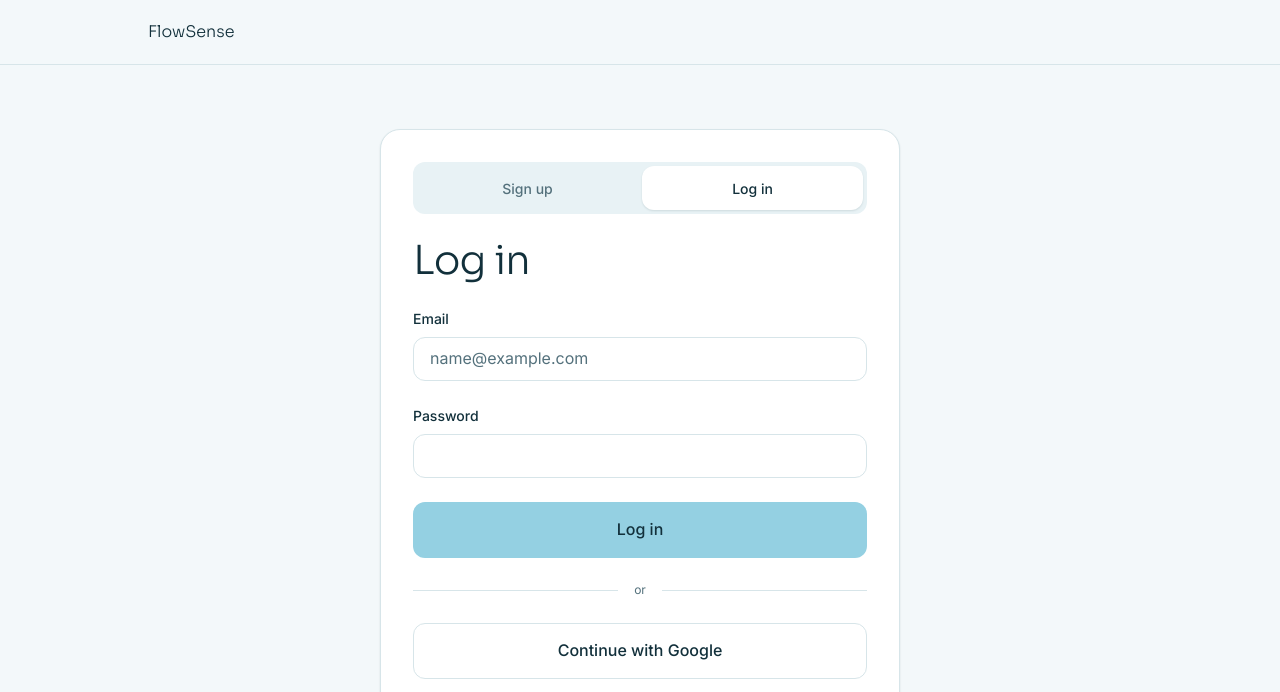
Test case: login entry intent › keeps the submitted email visible after a wrong-password response
The width and height of the screenshot is (1280, 692).
Type " speaker@example.test " into the field labelled "Email".
click(640, 359); type(" speaker@example.test ")  # box [413,337,867,381]
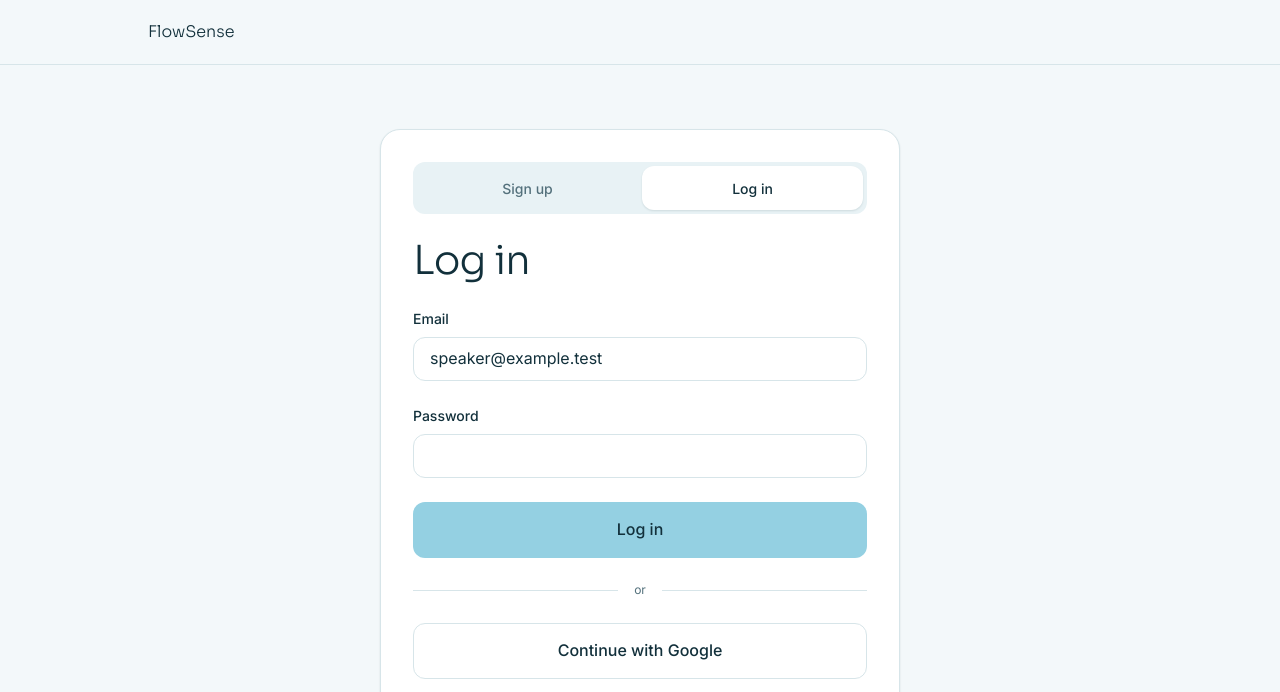
Type "wrong-password" into the password field labelled "Password".
click(640, 456); type("wrong-password")  # box [413,434,867,478]
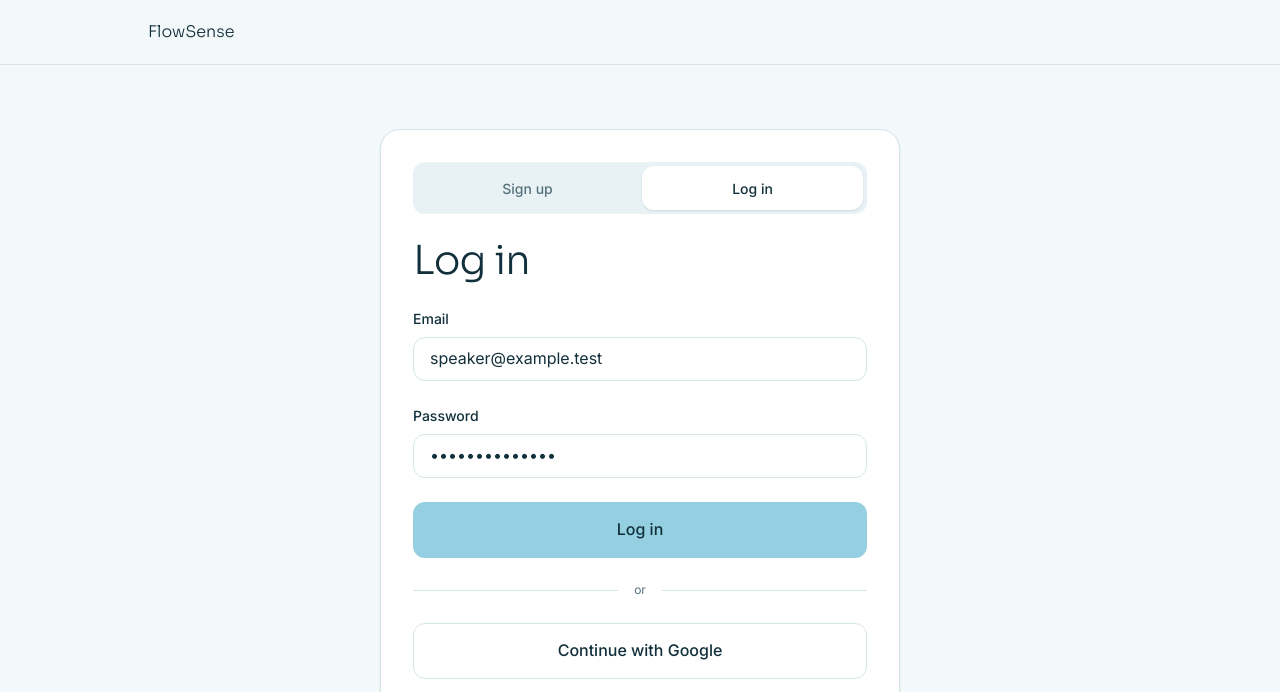
Click the button "Log in" below "Password".
click(640, 530)  # box [413,502,867,558]
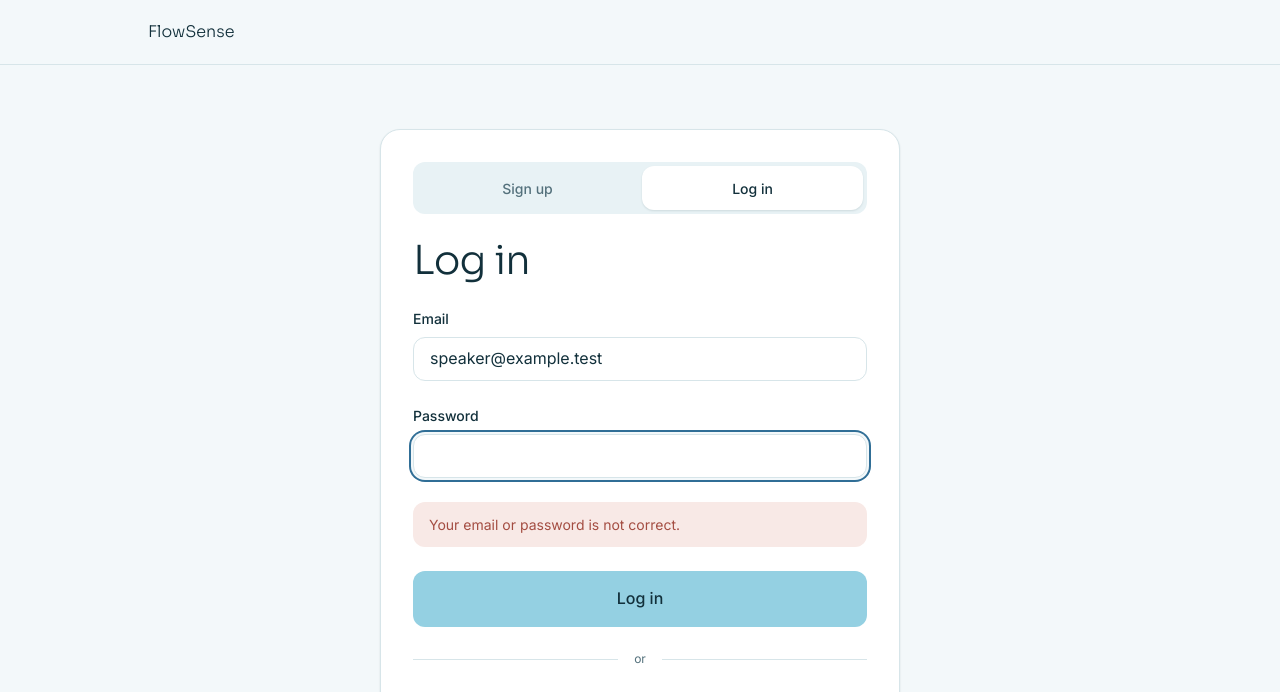
expect the message reads "Your email or password is not correct.": met, box [429,516,680,533]
